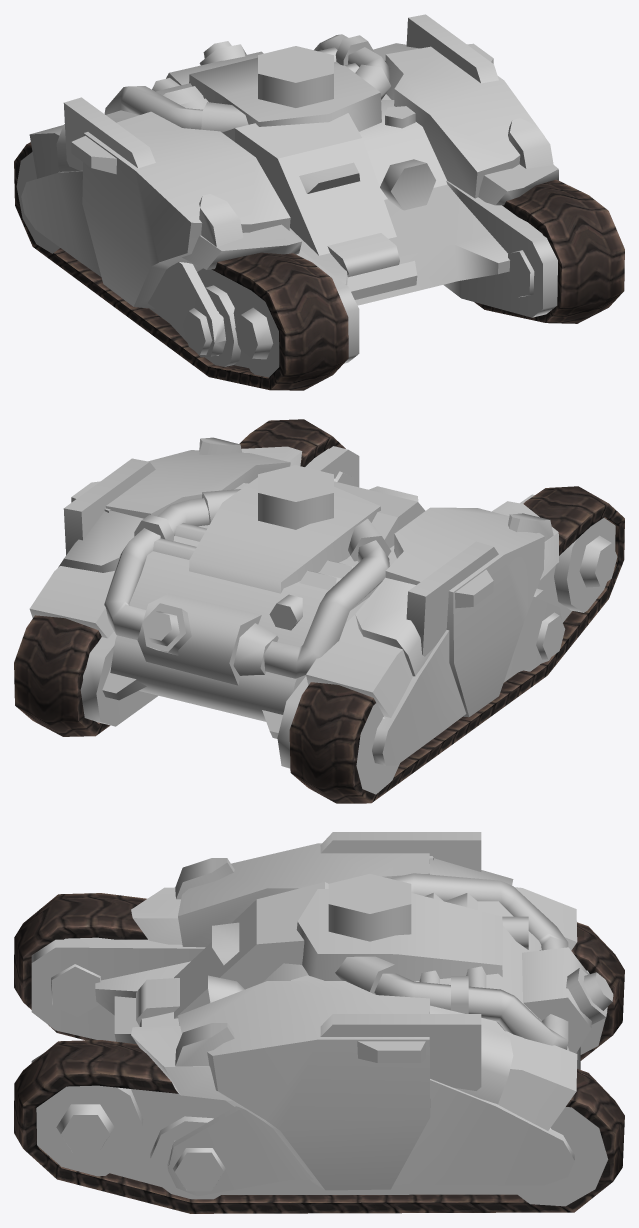
The model's file is Chassis_Tank_Lvl1.fbx.
3 renders of one model, top to bottom at view 1: azimuth 30°, elevation 25°; view 2: azimuth 150°, elevation 25°; view 3: azimuth 270°, elevation 25°, orthographic. The views are drawn at different scales.
Parts seen in each view (by area): view 1: Body_Geom, Tracks_R_Geom, Tracks_L_Geom; view 2: Body_Geom, Tracks_R_Geom, Tracks_L_Geom; view 3: Body_Geom, Tracks_L_Geom, Tracks_R_Geom.
Boxes of the visible parts, x1=… form: Body_Geom: x1=16, y1=14, x2=558, y2=377; Tracks_R_Geom: x1=14, y1=142, x2=348, y2=390; Tracks_L_Geom: x1=474, y1=179, x2=624, y2=323; Body_Geom: x1=29, y1=437, x2=617, y2=794; Tracks_R_Geom: x1=289, y1=486, x2=624, y2=803; Tracks_L_Geom: x1=14, y1=419, x2=345, y2=736; Body_Geom: x1=31, y1=832, x2=613, y2=1206; Tracks_L_Geom: x1=14, y1=1040, x2=624, y2=1213; Tracks_R_Geom: x1=14, y1=893, x2=624, y2=1060.
Size of the model in its own units: 386 by 200 by 465.
